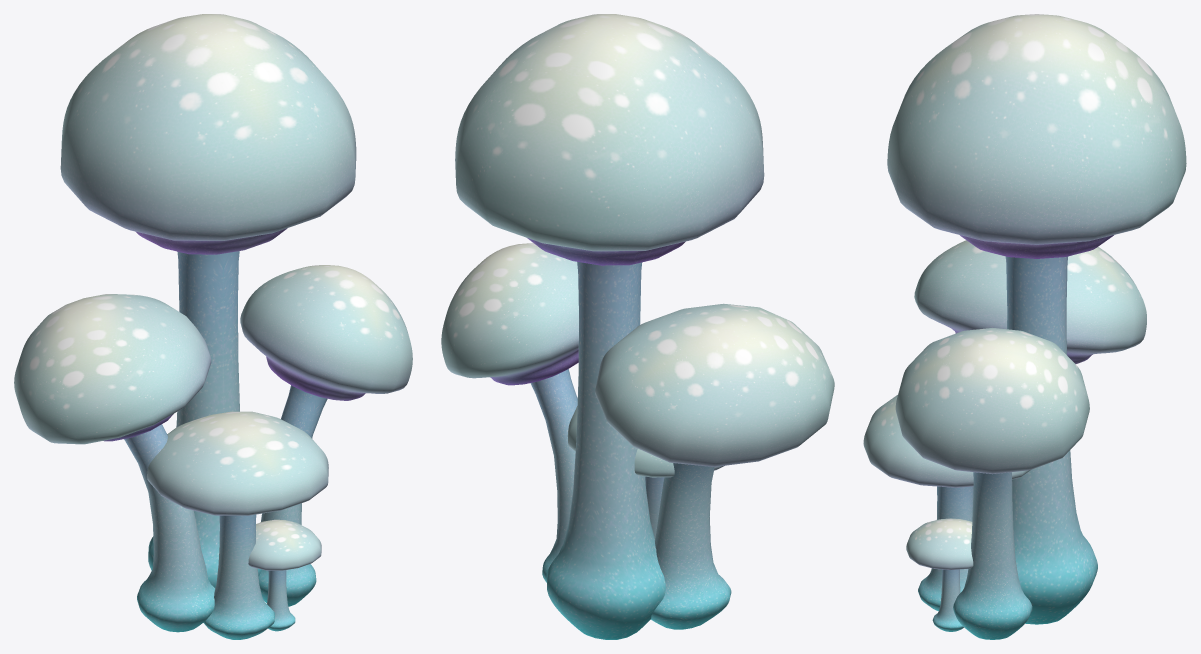
The model's file is MashwoomCluster.fbx.
3 renders of one model, left to right at view 1: azimuth 30°, elevation 25°; view 2: azimuth 150°, elevation 25°; view 3: azimuth 270°, elevation 25°, orthographic. The views are drawn at different scales.
Visible parts, largest first — view 1: MushroomCluster; view 2: MushroomCluster; view 3: MushroomCluster.
Boxes of the visible parts, x1,y1,x2,y2 form: MushroomCluster: (14,14,412,639); MushroomCluster: (441,14,834,639); MushroomCluster: (863,14,1186,639).
Bounding box in the file's own units: 9.06 × 14.05 × 6.96.
